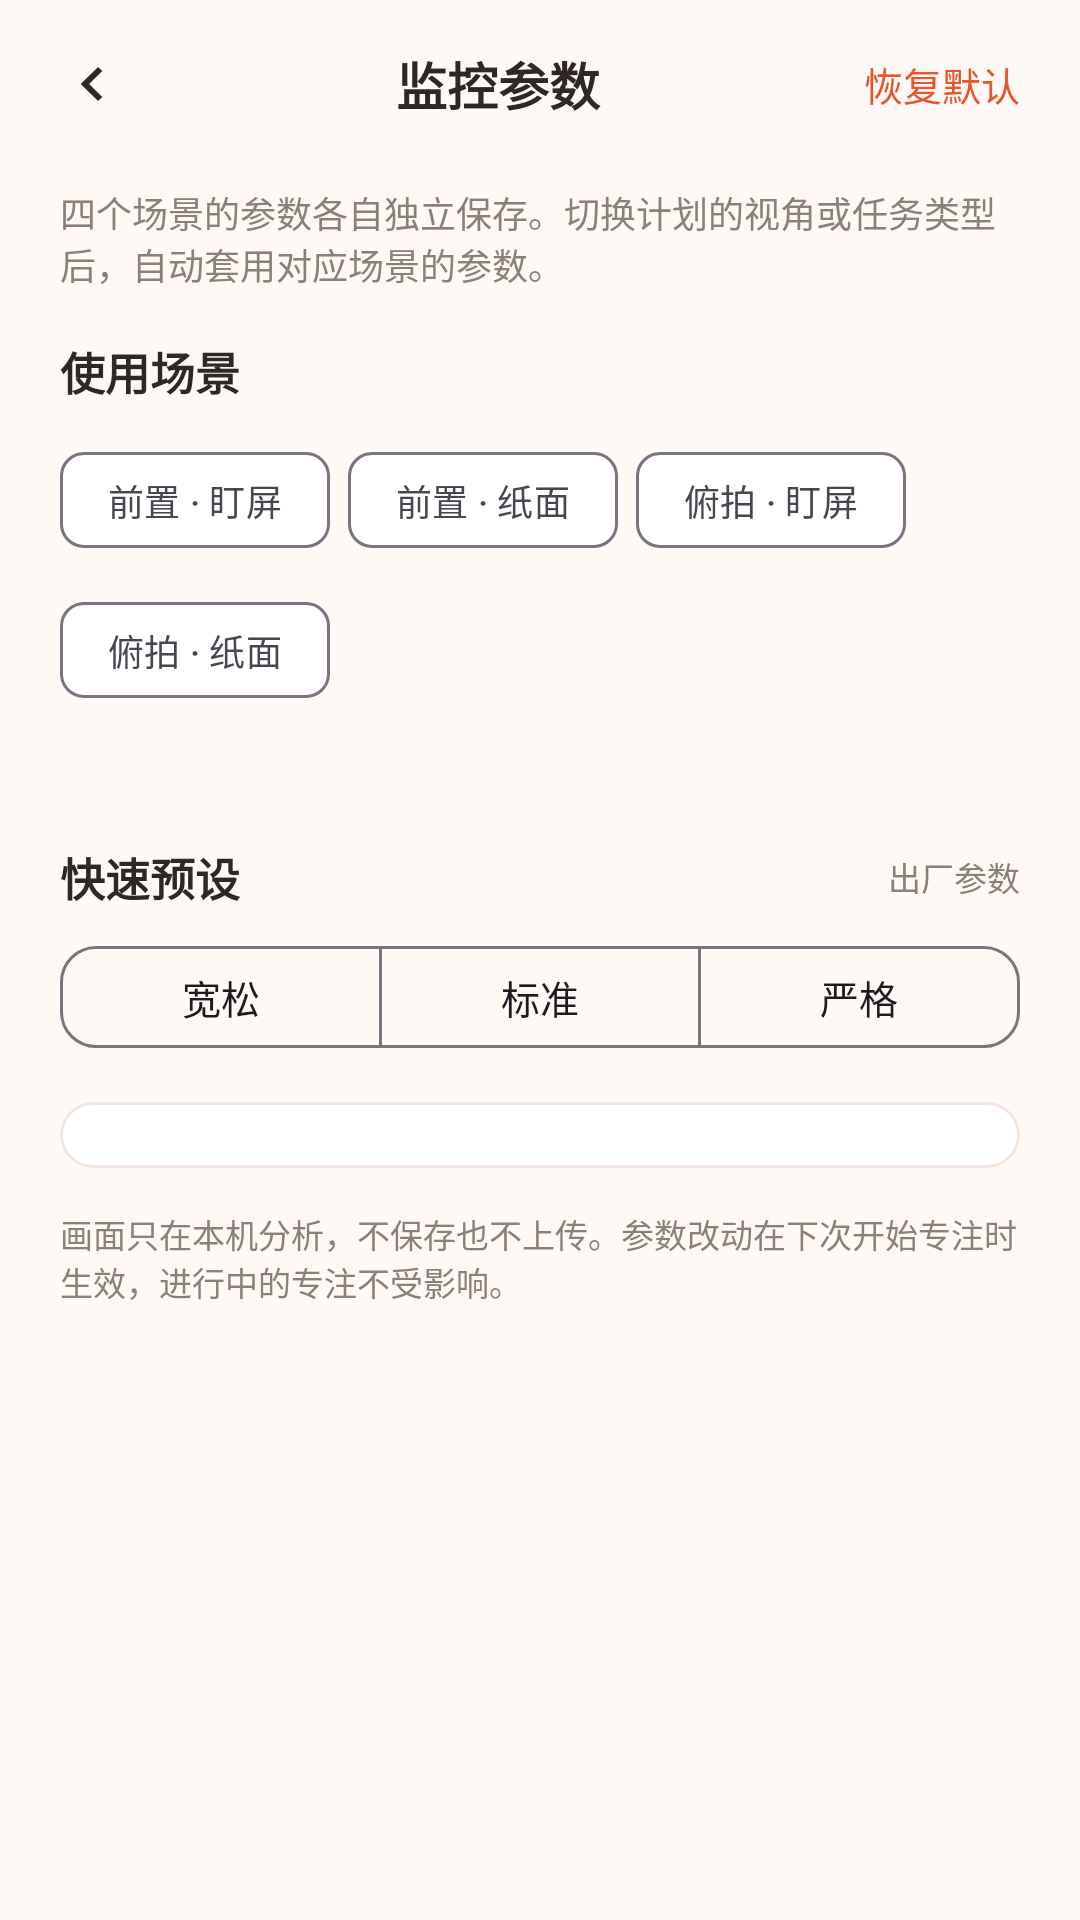

Where to tap for icons on this 1080*1920 app screen, as point (x, y):
返回: point (91, 84)
